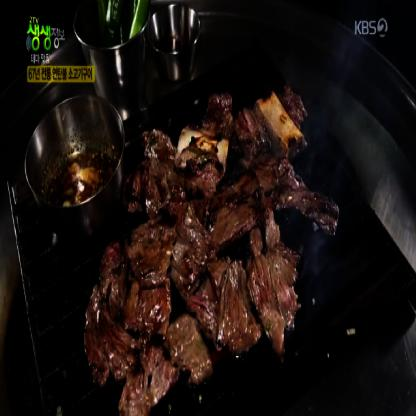Carne: (244, 242, 298, 358), (125, 129, 194, 216), (172, 187, 214, 318), (205, 250, 256, 353), (74, 296, 132, 379), (186, 88, 233, 190), (204, 173, 260, 252), (121, 341, 173, 413), (123, 219, 174, 286), (126, 277, 171, 342), (166, 323, 211, 381), (231, 103, 268, 168)
